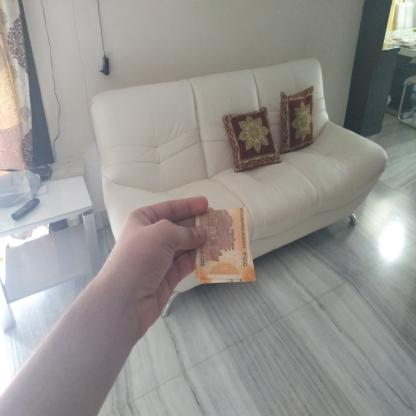New200Back: (197, 204, 250, 280)
